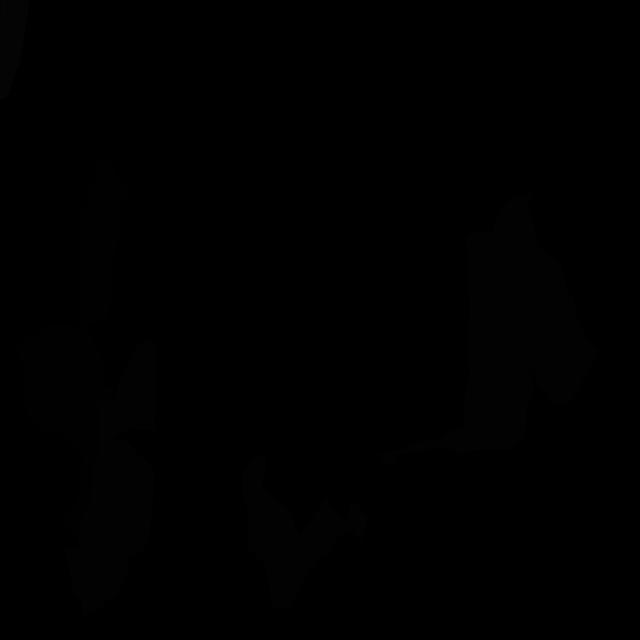cardboard: (379, 230, 534, 465), (66, 337, 156, 620), (492, 188, 598, 405), (242, 454, 368, 608)
rigid_plastic: (16, 153, 128, 538)
